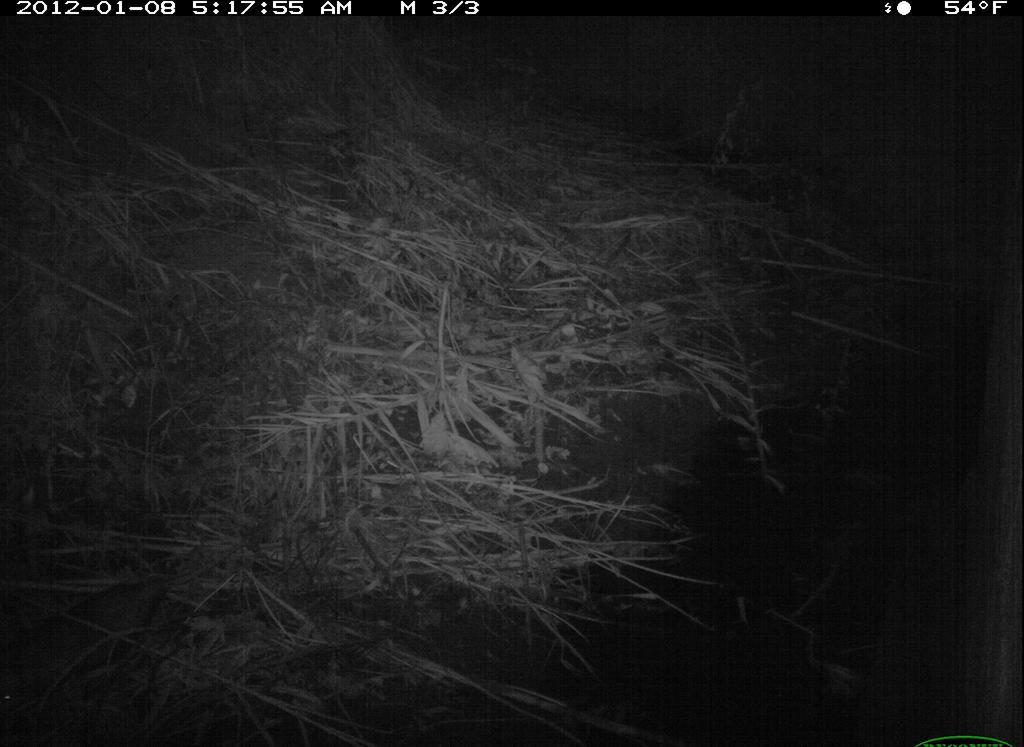opossum: (1, 550, 216, 718)
